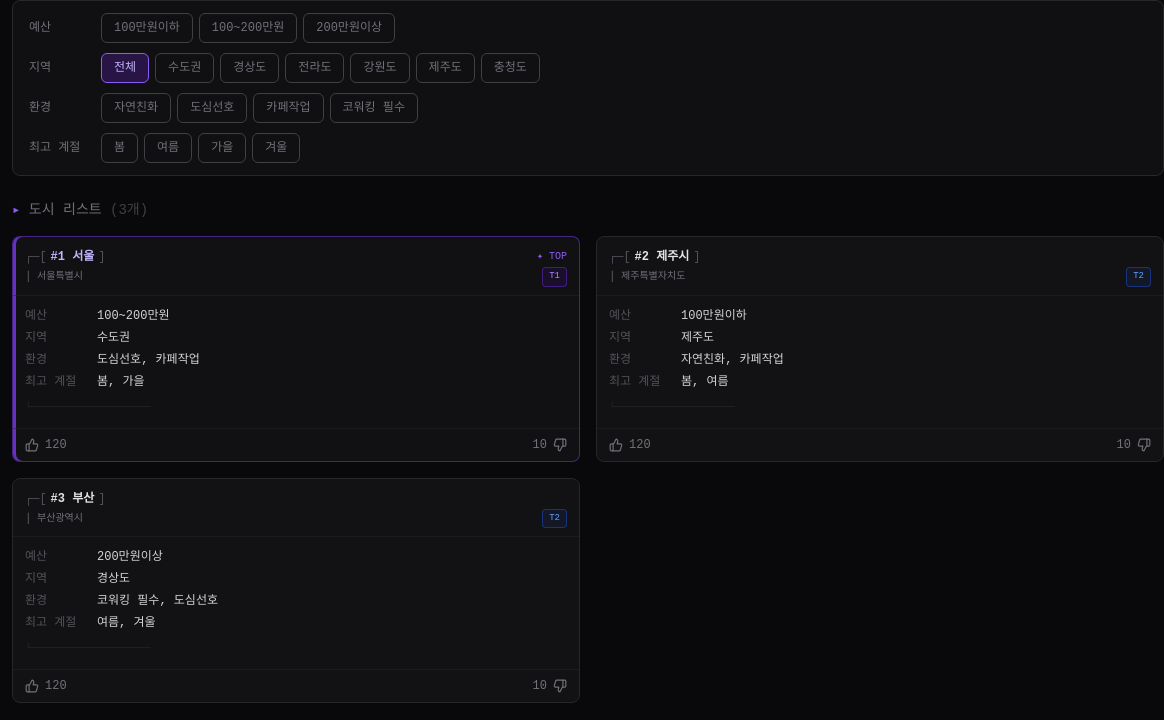
Scenario: CitySection › environment single filter: only cities containing that environment are shown
Note: '자연친화' is only in 제주시
What coordinates should you click on to do the following:
click the button "자연친화"
I would click on:
 (136, 108)
Its box is left=101, top=93, right=171, bottom=123.
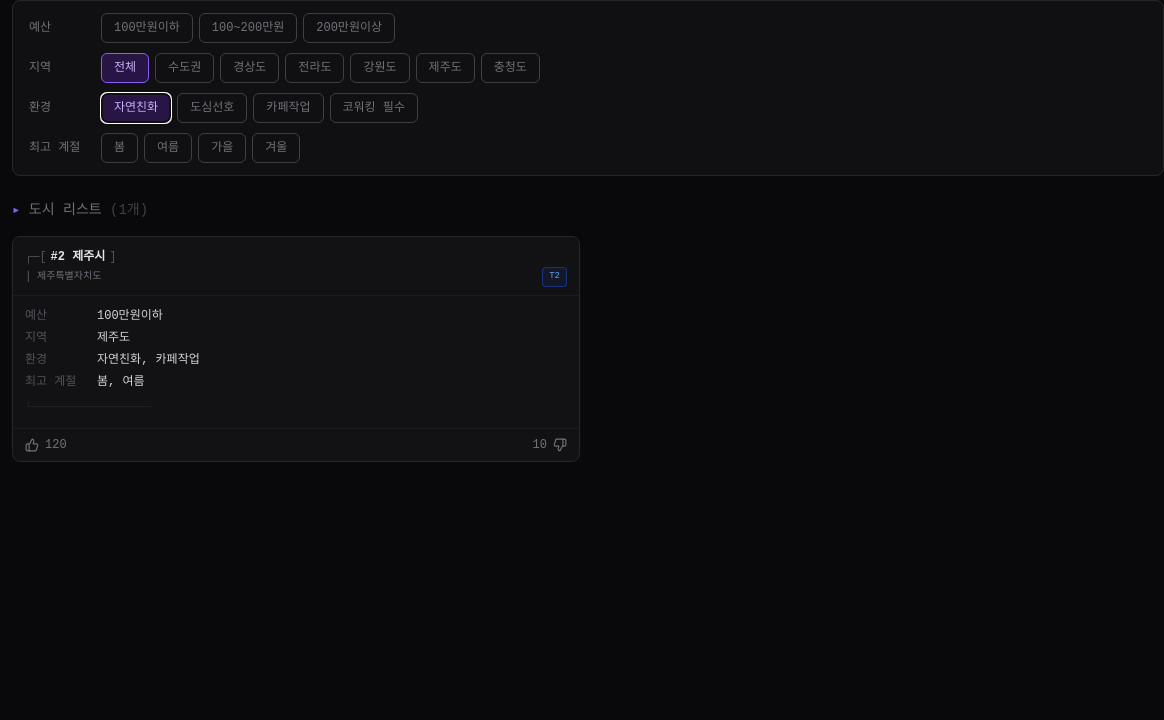
Expected: the text "#2 제주시" is shown, left=51, top=249, right=105, bottom=265
Expected: the link "#1 서울" is gone
Expected: the link "#3 부산" is gone
